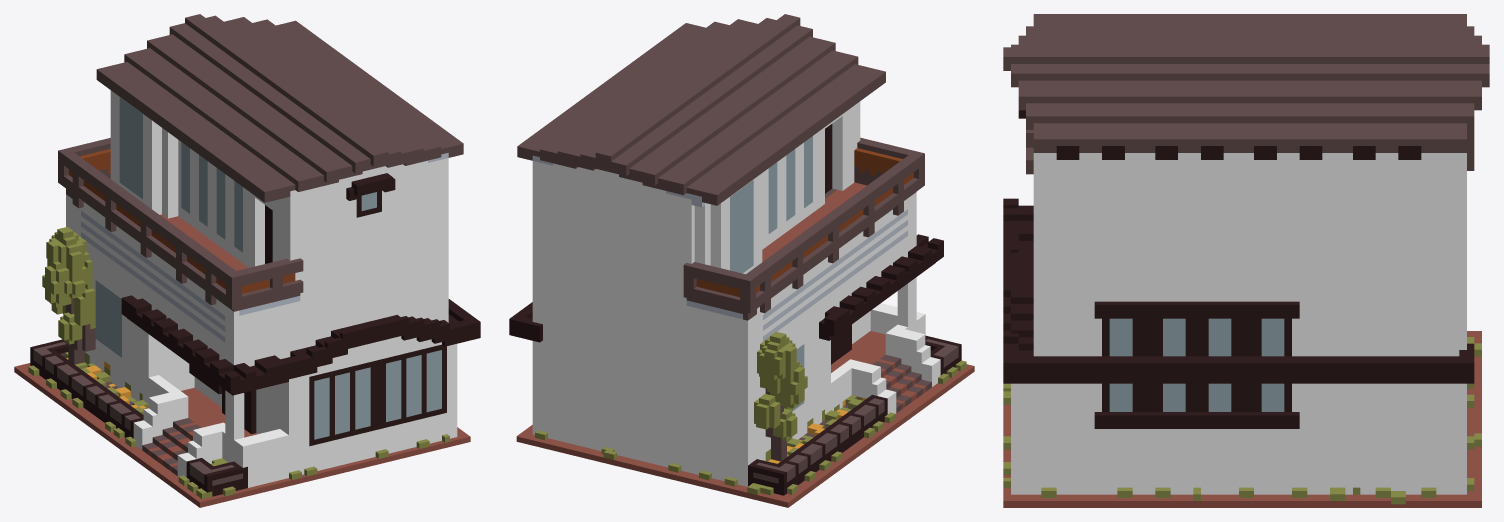
File: Buildings Final For Import-1.obj
3 renders of one model, left to right at view 1: azimuth 30°, elevation 25°; view 2: azimuth 150°, elevation 25°; view 3: azimuth 270°, elevation 25°, orthographic. The views are drawn at different scales.
Size of the model in its own units: 5.5 by 5.8 by 6.4.
1 material, 1 textured.
